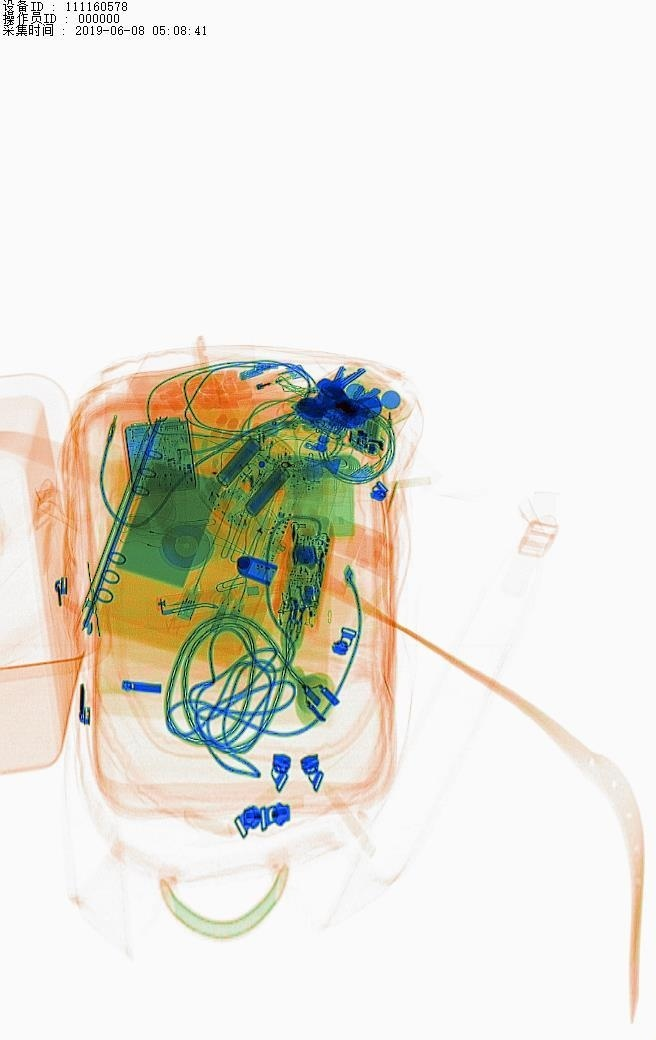NonmetallicFire: (209, 343, 314, 414)
